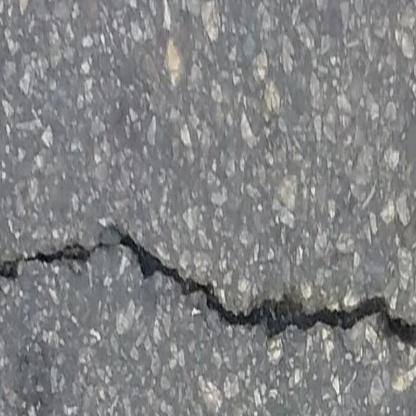Cracks: (0, 174, 416, 378)
